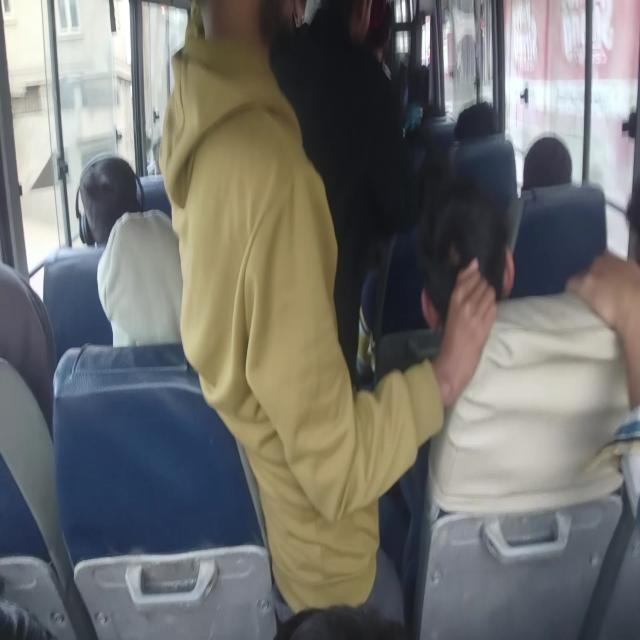person: (383, 184, 535, 448), (160, 7, 288, 218), (510, 182, 608, 300), (0, 253, 57, 441), (40, 245, 113, 372), (270, 600, 406, 640), (76, 162, 140, 246), (454, 132, 516, 207), (521, 134, 573, 191), (408, 64, 429, 108)
